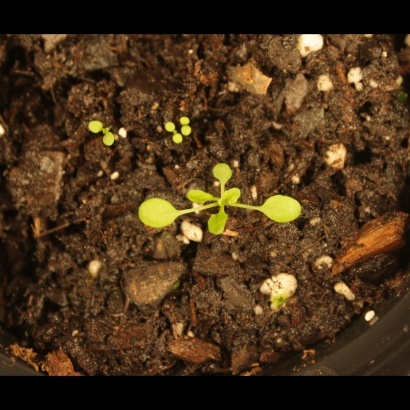leaf: (261, 189, 305, 229), (136, 195, 180, 233), (208, 156, 238, 186), (187, 183, 218, 207), (219, 186, 248, 210), (206, 212, 229, 238), (101, 131, 124, 154), (85, 114, 108, 137), (156, 111, 179, 134), (170, 134, 193, 157), (176, 103, 199, 126), (182, 127, 205, 150)
